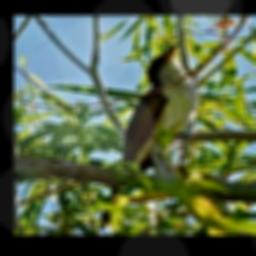Cuckoo: (97, 44, 198, 230)
